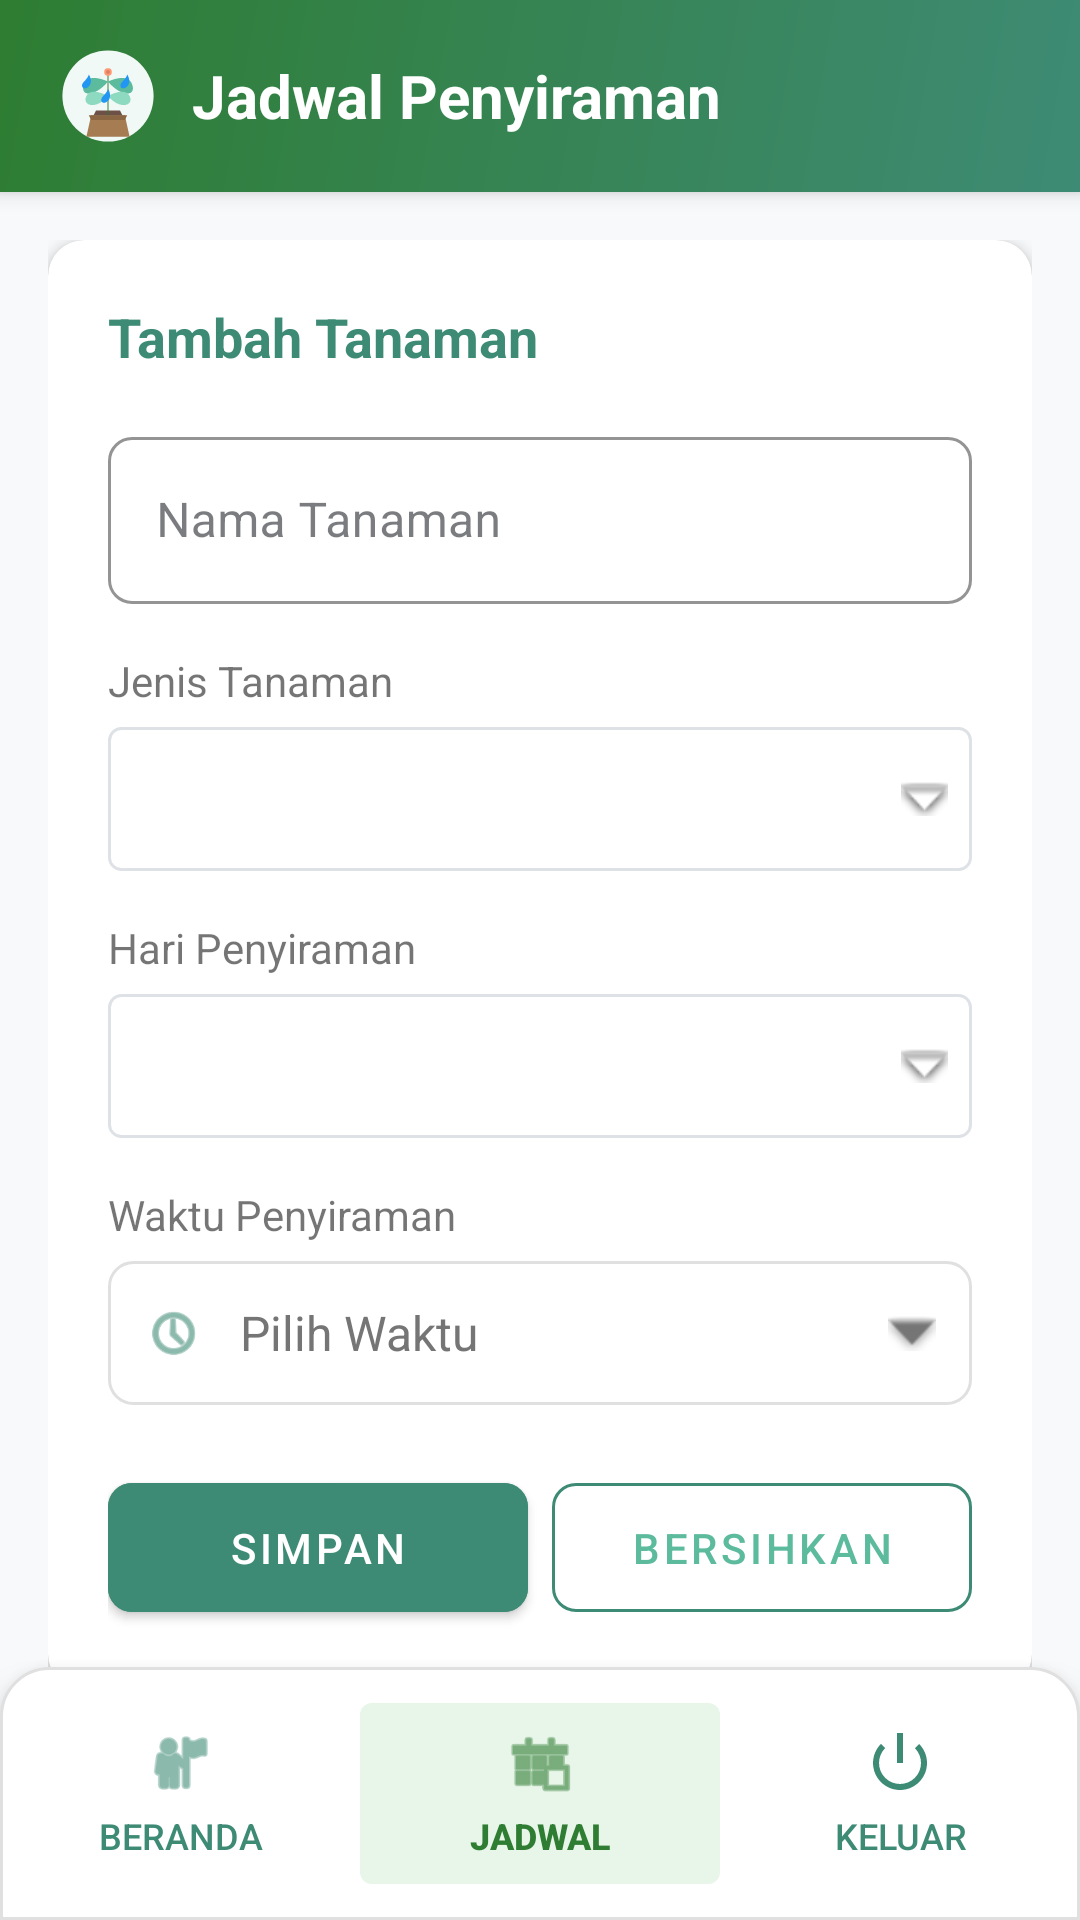

Where icons sit on this 1080w x 1920h app screen, as detection(x1, y1, x2, y2):
arrow down float: detection(888, 1318, 936, 1347)
recent history: detection(152, 1312, 195, 1355)
